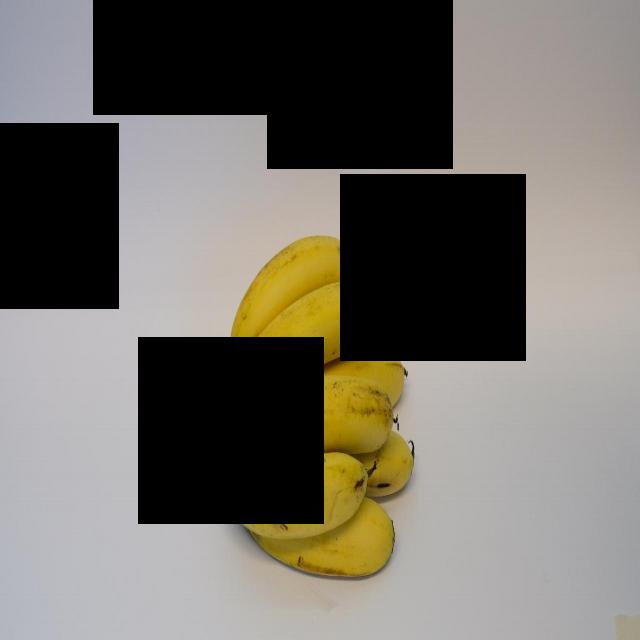banana: (224, 222, 362, 372), (231, 275, 380, 401), (212, 432, 366, 538), (232, 374, 391, 451), (258, 498, 404, 578)
